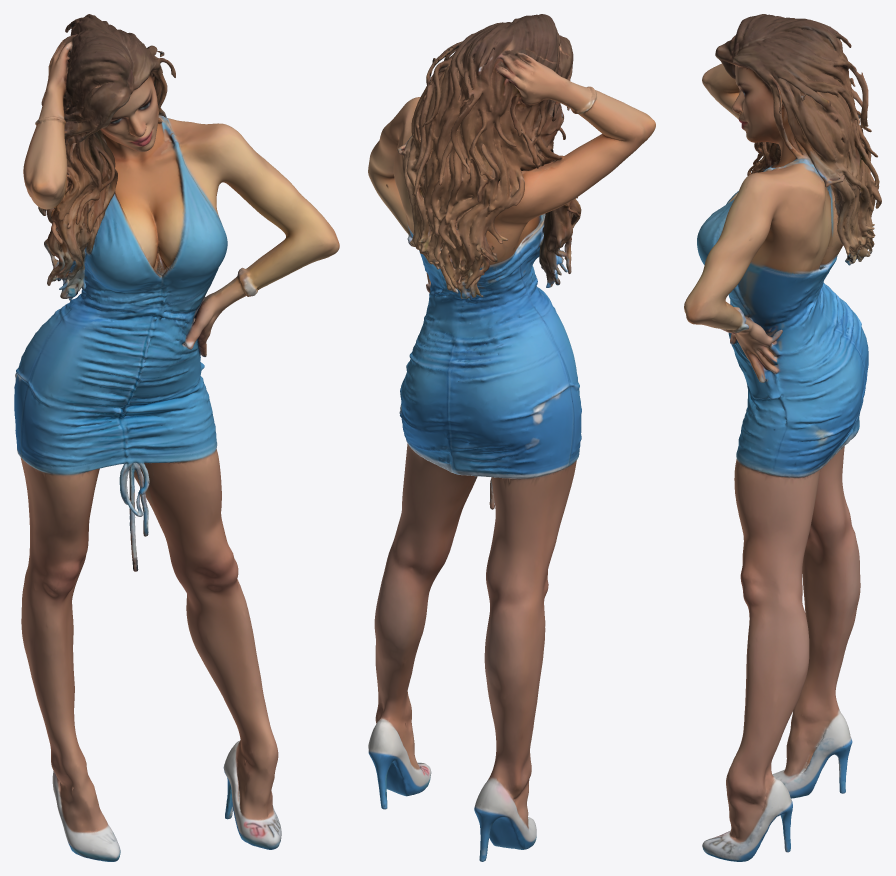
The model's file is ginget.glb.
3 views of the same model, side by side, from view 1: azimuth 30°, elevation 25°; view 2: azimuth 150°, elevation 25°; view 3: azimuth 270°, elevation 25° (orthographic). The views are drawn at different scales.
Parts seen in each view (by area): view 1: Mesh_0; view 2: Mesh_0; view 3: Mesh_0.
Part boxes in pixels (x1,y1,x2,y2): Mesh_0: (14, 14, 339, 861); Mesh_0: (368, 14, 655, 861); Mesh_0: (684, 14, 881, 861).
Size of the model in its own units: 0.7112 by 1.9 by 0.4404.
Materials: 1 (1 with a texture image).
